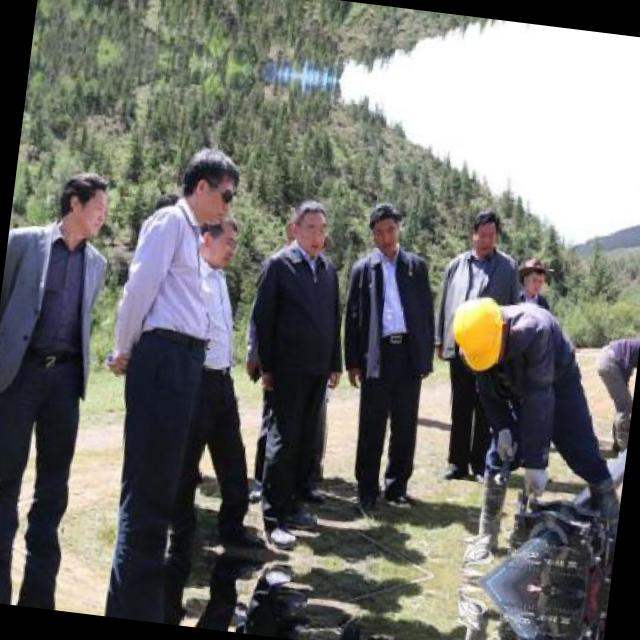helmet: (440, 288, 516, 376)
